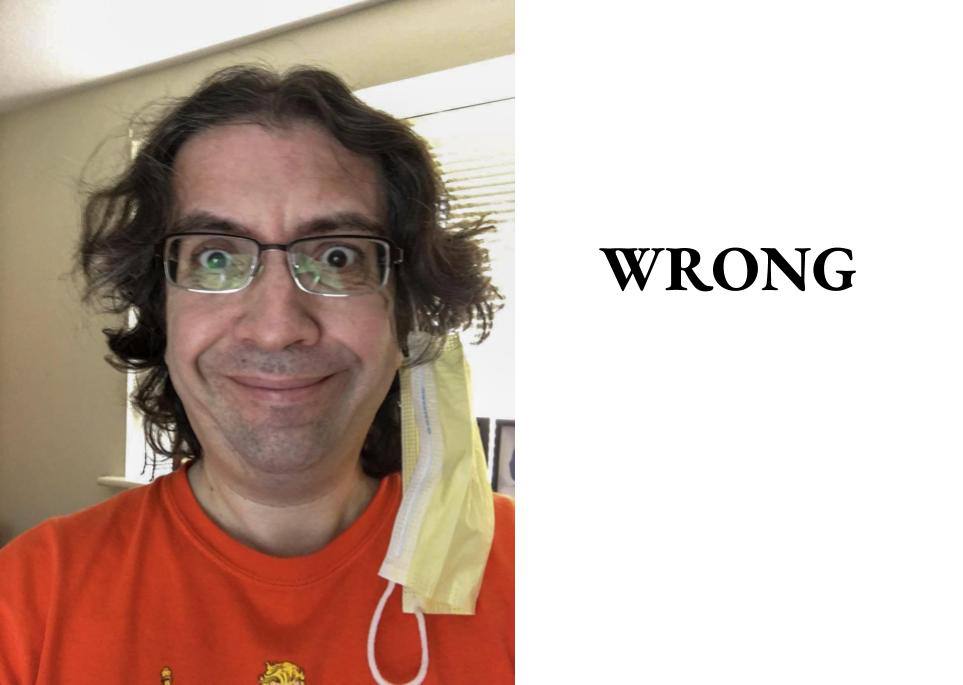without_mask: (162, 185, 403, 480)
